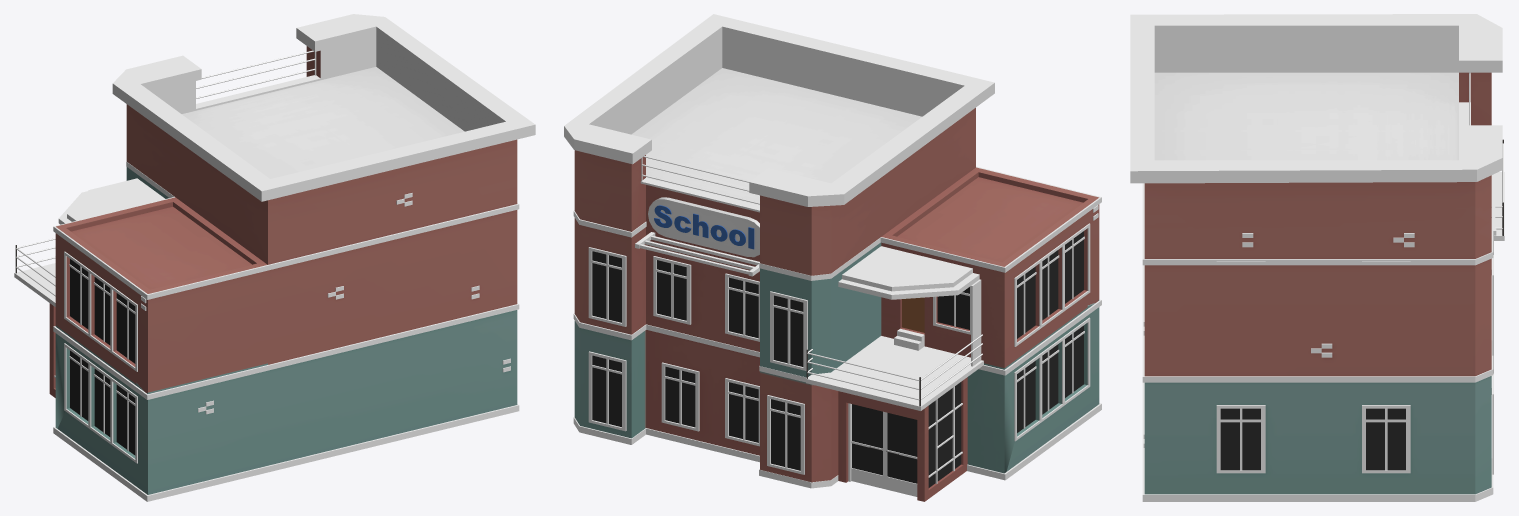
The model's file is School.fbx.
The picture shows the model from 3 angles, left to right: view 1: azimuth 30°, elevation 25°; view 2: azimuth 150°, elevation 25°; view 3: azimuth 270°, elevation 25°; orthographic projection. The views are drawn at different scales.
Parts seen in each view (by area): view 1: School; view 2: School; view 3: School.
Boxes of the visible parts, x1,y1,x2,y2 form: School: (14, 14, 535, 501); School: (564, 14, 1101, 501); School: (1130, 14, 1504, 501).
Size of the model in its own units: 4386 by 3148 by 3167.
1 material, 1 textured.
